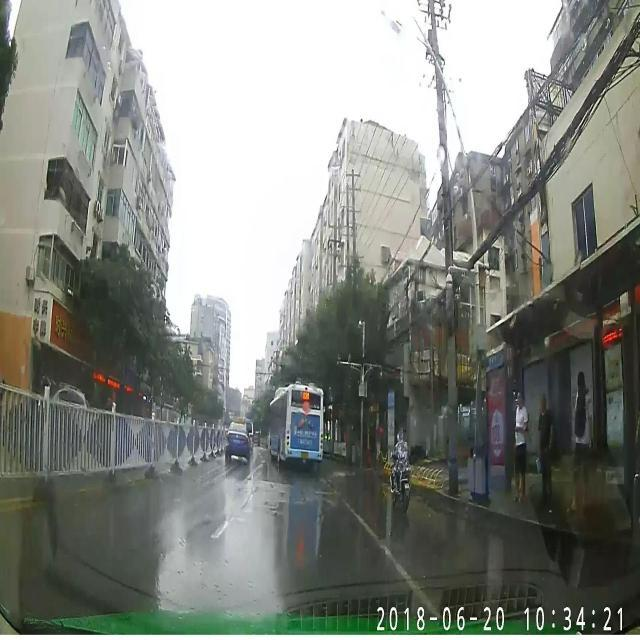car: (226, 414, 252, 467)
